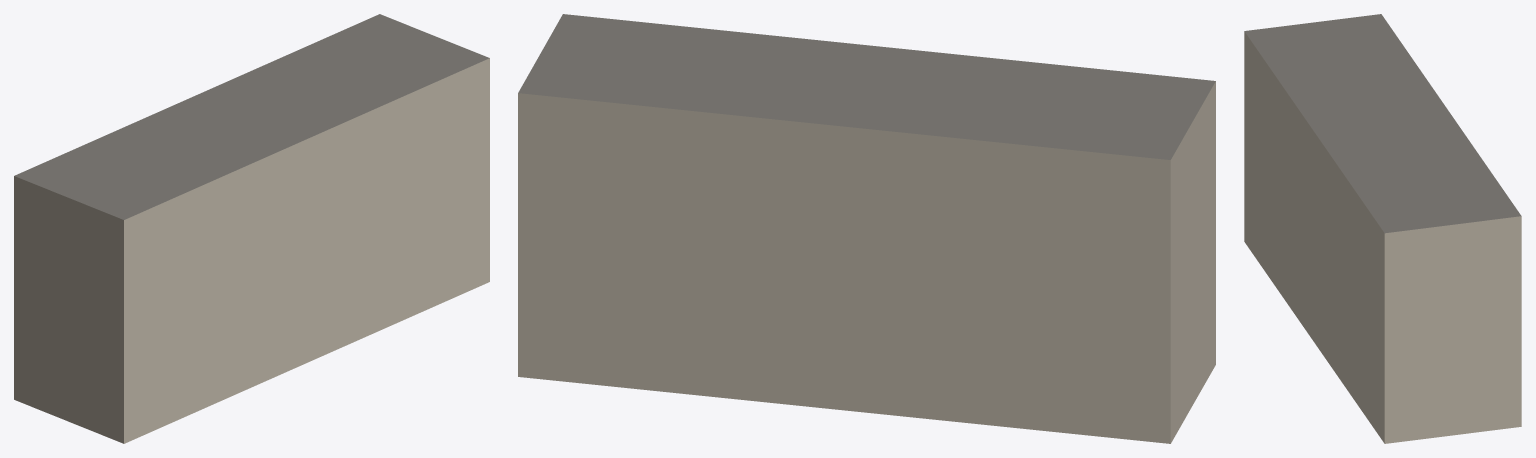
3 views of the same model, side by side, from view 1: azimuth 30°, elevation 25°; view 2: azimuth 150°, elevation 25°; view 3: azimuth 270°, elevation 25° (orthographic). The views are drawn at different scales.
Visible parts, largest first — view 1: HP-w380339991; view 2: HP-w380339991; view 3: HP-w380339991.
Part boxes in pixels (x1,y1,x2,y2): HP-w380339991: [14, 14, 489, 443]; HP-w380339991: [518, 14, 1215, 443]; HP-w380339991: [1244, 14, 1521, 443].
Size of the model in its own units: 33.49 by 15 by 17.89.
